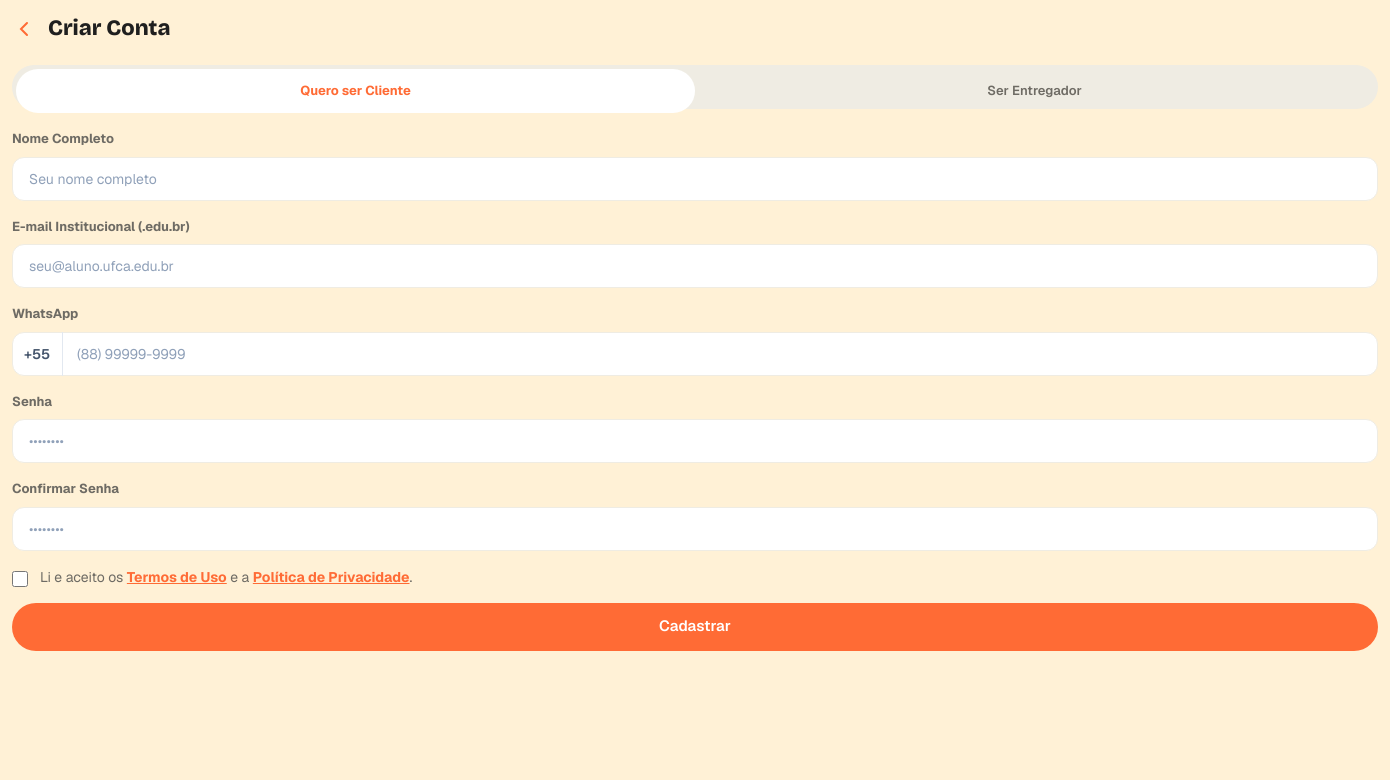
Test: RegisterPage › mirrors password and WhatsApp rules before submitting
The image size is (1390, 780).
Step 1. Type "Cliente Teste" into the field labelled "Nome Completo" → (695, 178), box [12, 156, 1378, 200]
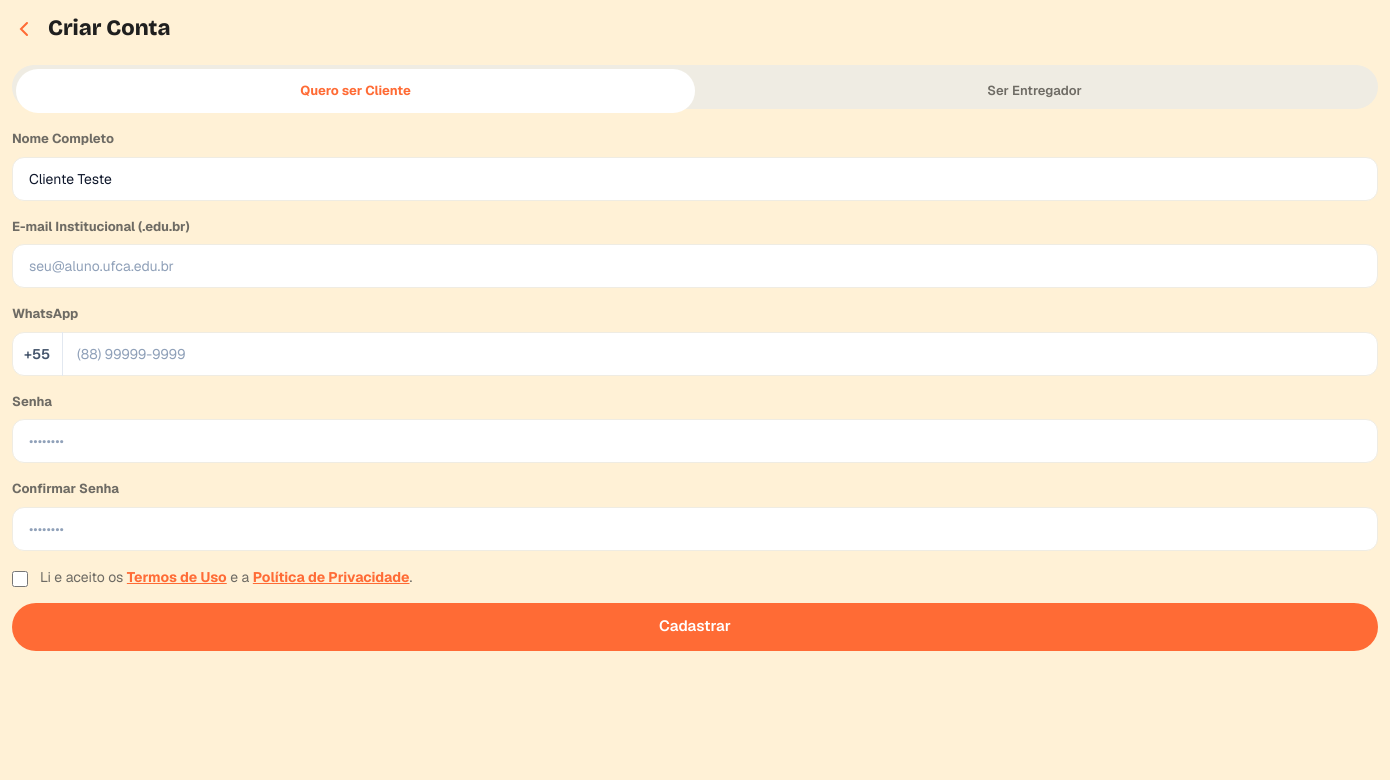
Step 2. Type "cliente@ufca.edu.br" into the field labelled "E-mail Institucional (.edu.br)" → (695, 266), box [12, 244, 1378, 288]
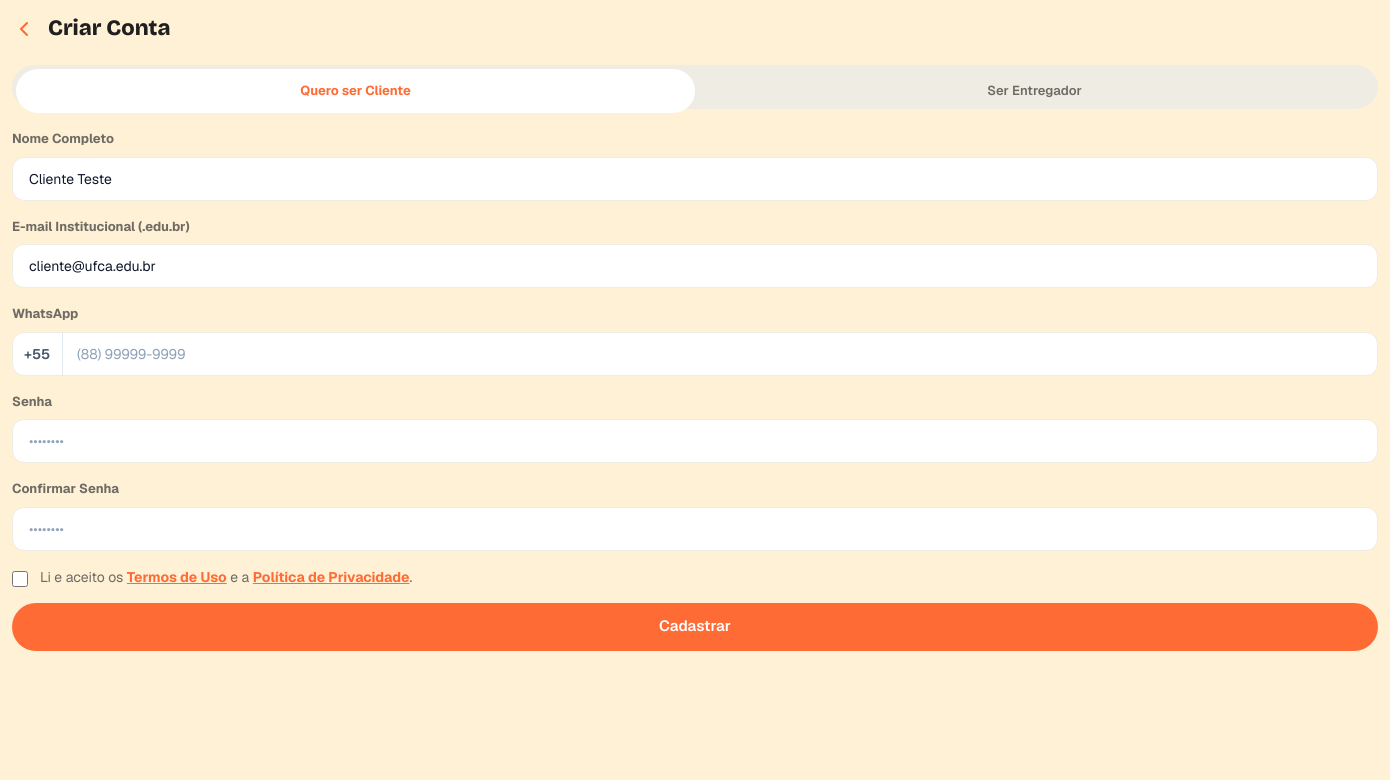
Step 3. Type "8899999" into the field labelled "WhatsApp" → (695, 354), box [12, 332, 1378, 376]
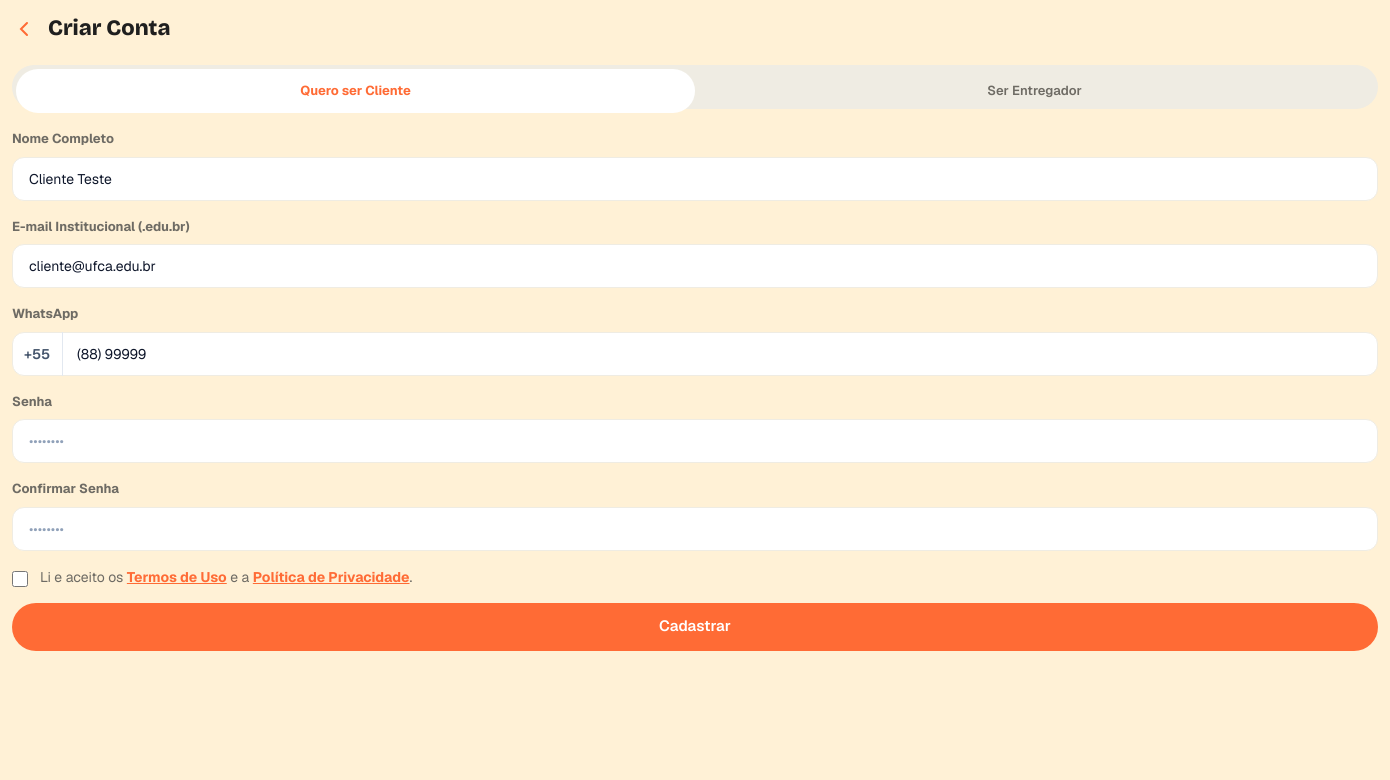
Step 4. Type "senhafraca" into the password field labelled "Senha" → (695, 441), box [12, 419, 1378, 463]
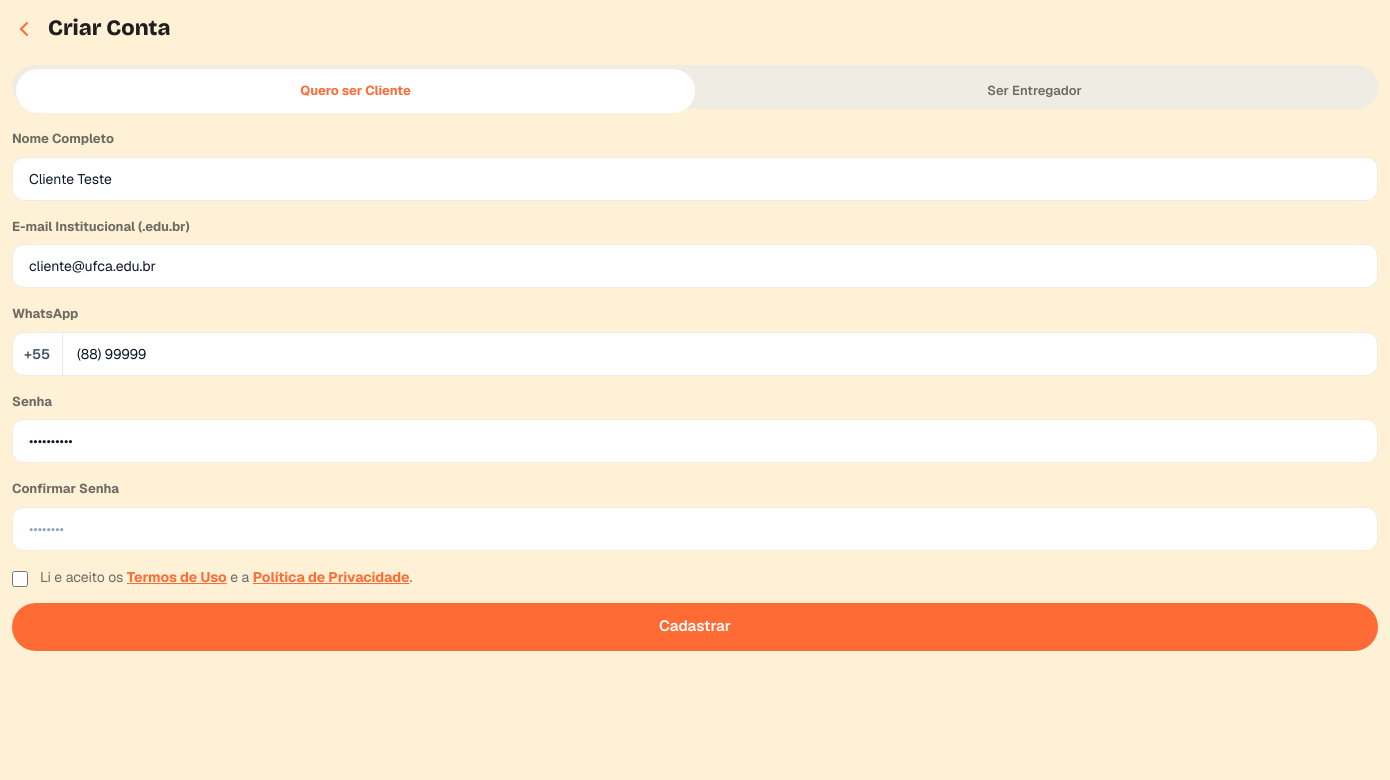
Step 5. Type "senhafraca" into the password field labelled "Confirmar Senha" → (695, 528), box [12, 506, 1378, 550]
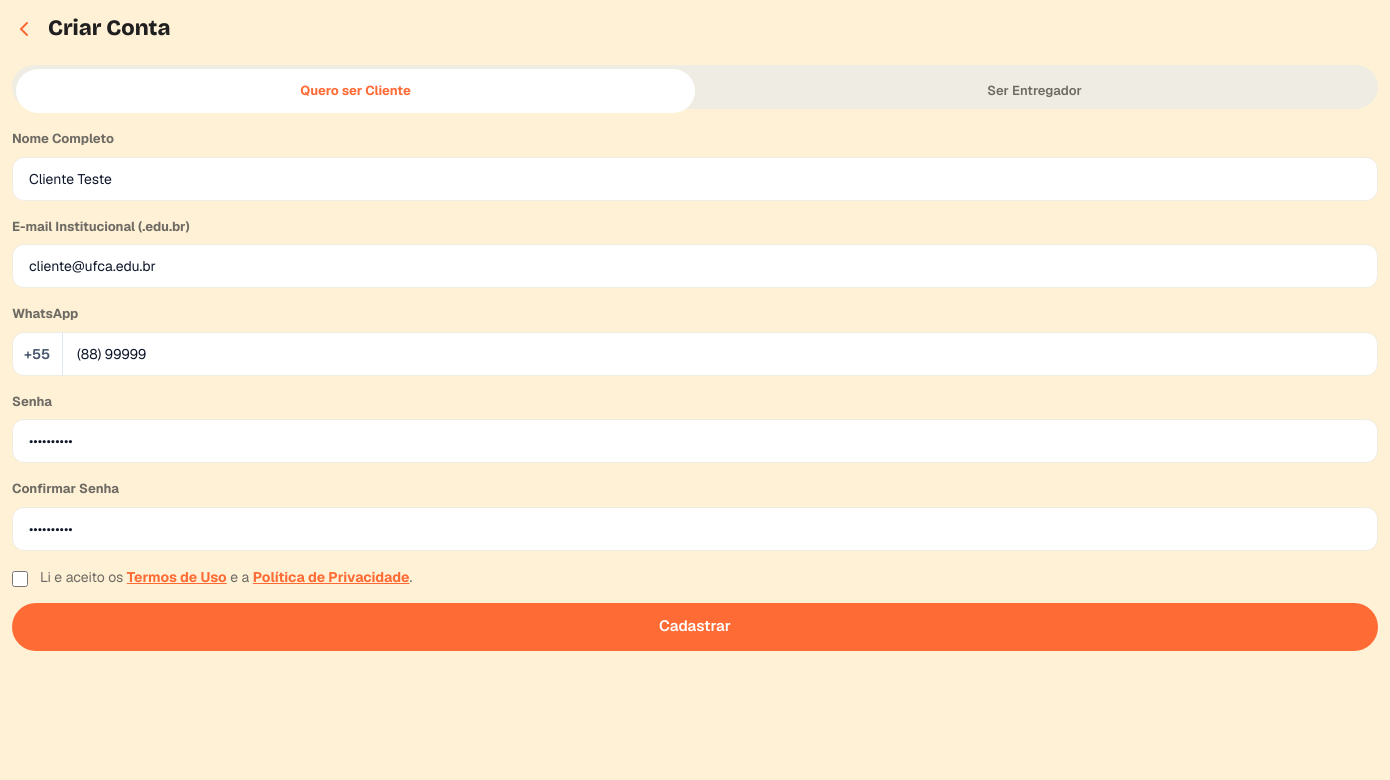
Step 6. Click the button "Cadastrar" → (695, 626), box [12, 602, 1378, 650]
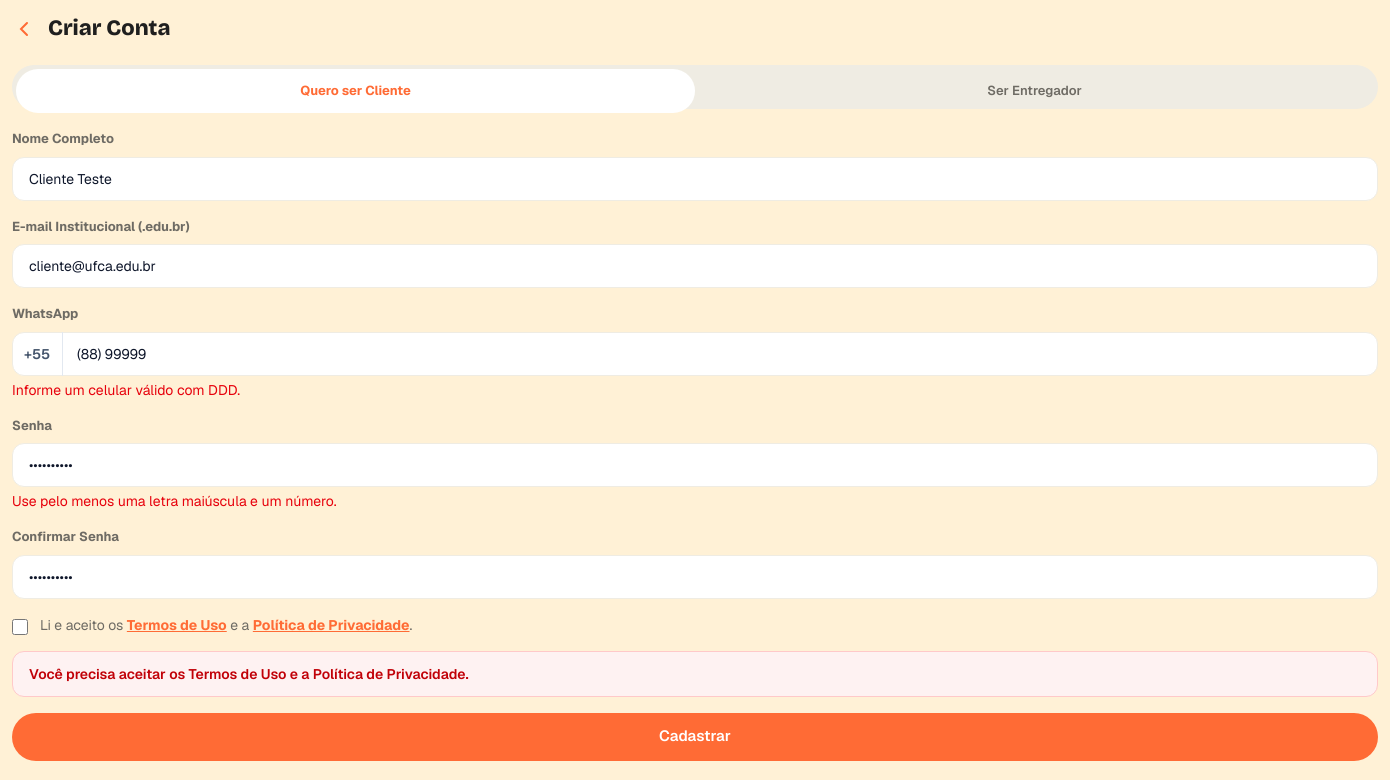
Now the text "Informe um celular válido com DDD." is shown, box [12, 380, 240, 398]
Now the text "Use pelo menos uma letra maiúscula e um número." is shown, box [12, 492, 337, 510]
